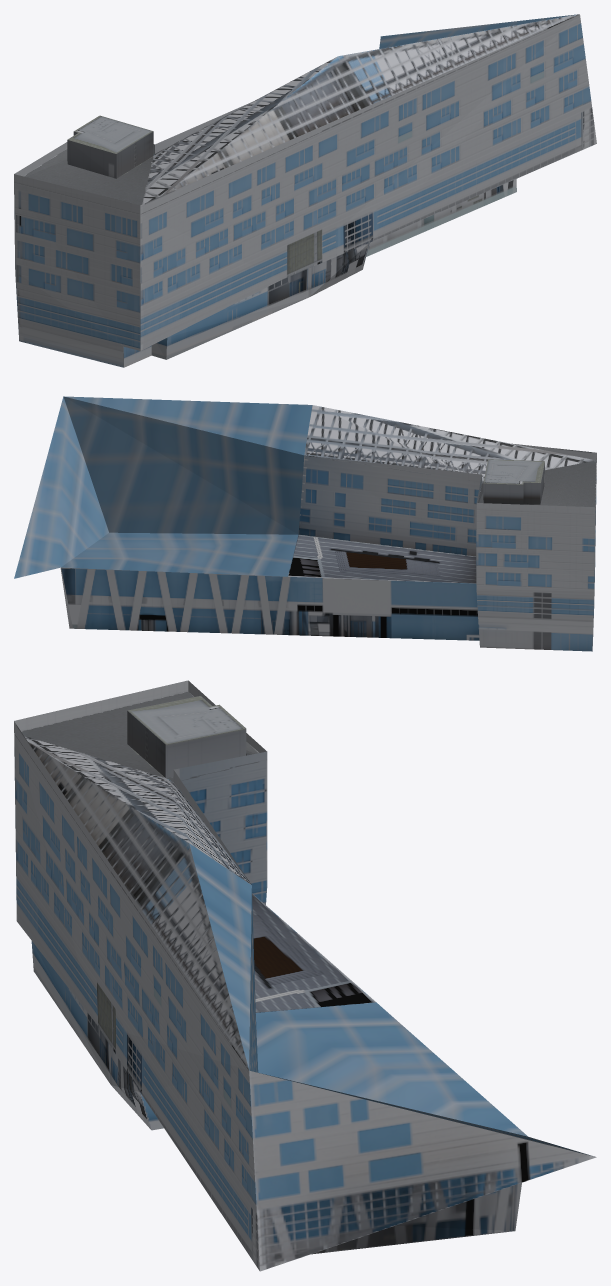
The model's file is 2.14-towerAnew.glb.
3 renders of one model, top to bottom at view 1: azimuth 30°, elevation 25°; view 2: azimuth 150°, elevation 25°; view 3: azimuth 270°, elevation 25°, orthographic. The views are drawn at different scales.
Visible parts, largest first — view 1: 2.14-A.001; view 2: 2.14-A.001; view 3: 2.14-A.001.
Part boxes in pixels (x1,y1,x2,y2): 2.14-A.001: (14,14,596,367); 2.14-A.001: (14,396,596,651); 2.14-A.001: (14,680,596,1271).
Size of the model in its own units: 104 by 33.86 by 63.34.
Materials: 1 (1 with a texture image).
